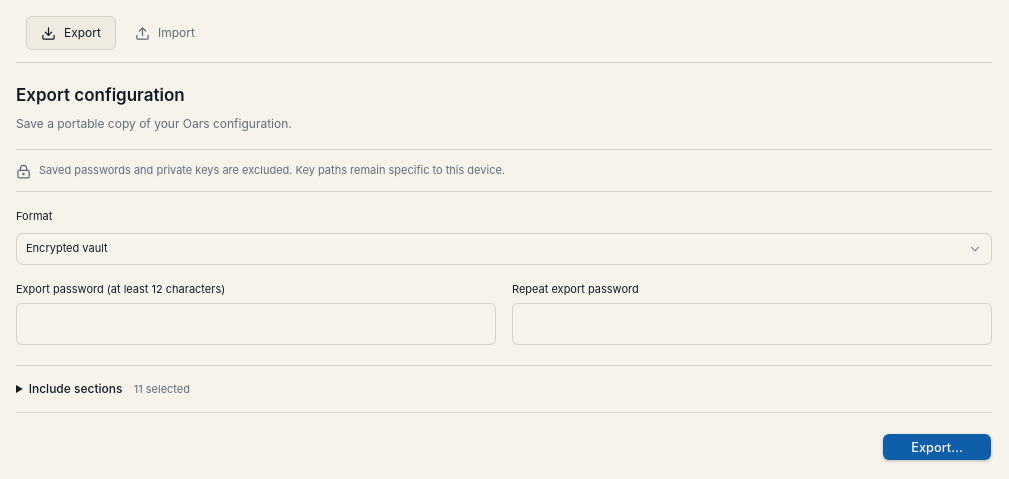
Test: Vault typed user path › does not offer apply after an invalid preview or a native error
The image size is (1009, 479).
Click the button "Import".
click(165, 33)  # box [120,16,210,50]
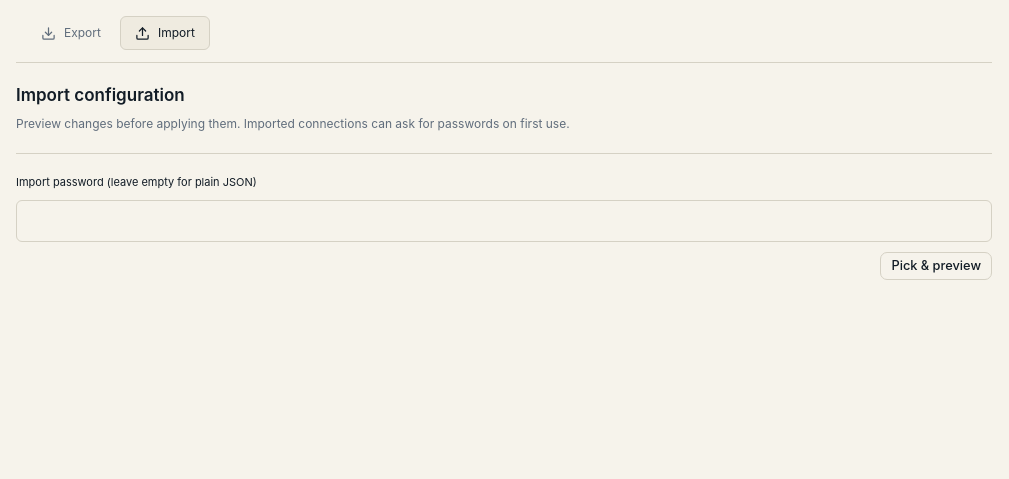
Click the button "Pick & preview".
click(936, 266)  # box [880,252,992,280]
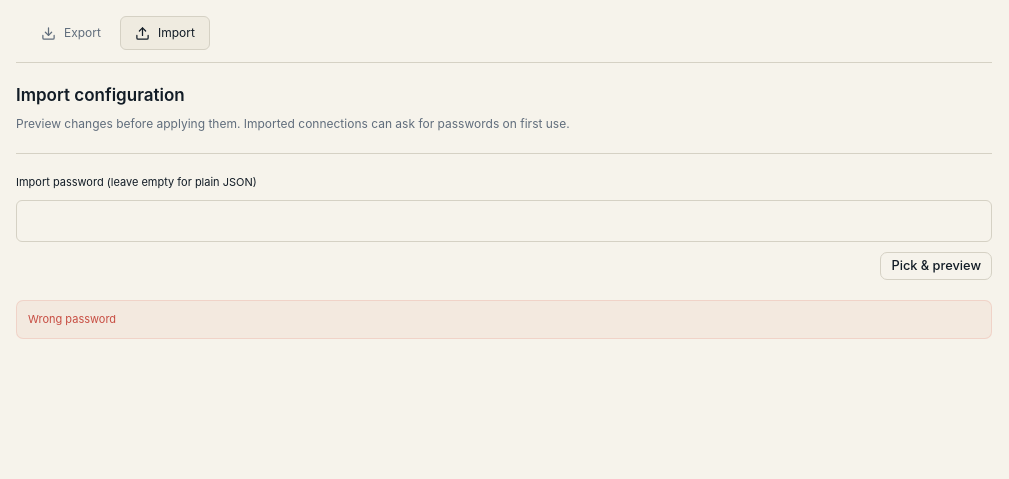
expect the text "Wrong password" is shown: met, box [16,300,992,338]
